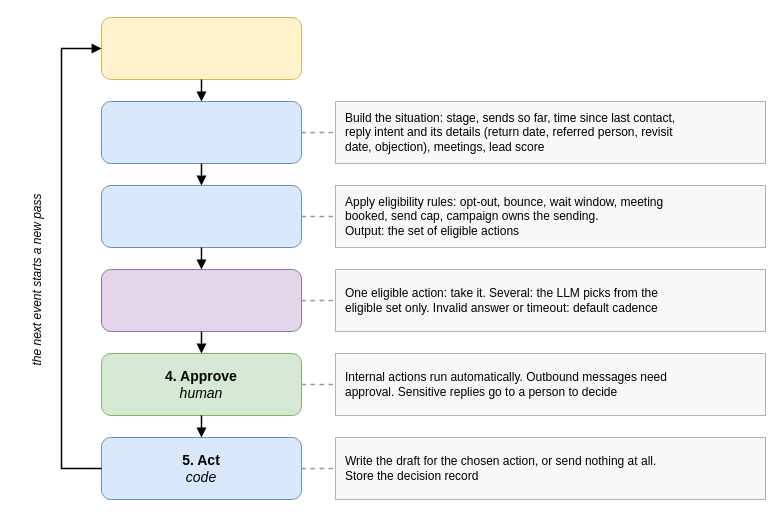
Some shapes in this 783 by 517 pixel diagram are drawn without their labels. Here are the shapes that lost their labels. From the top down, the box of each, then its label:
(100, 16, 302, 80): Event sent · reply · timer · meeting · bounce
(100, 100, 302, 164): 1. Observe code
(100, 184, 302, 248): 2. Filter code
(100, 268, 302, 332): 3. Select LLM, bounded
